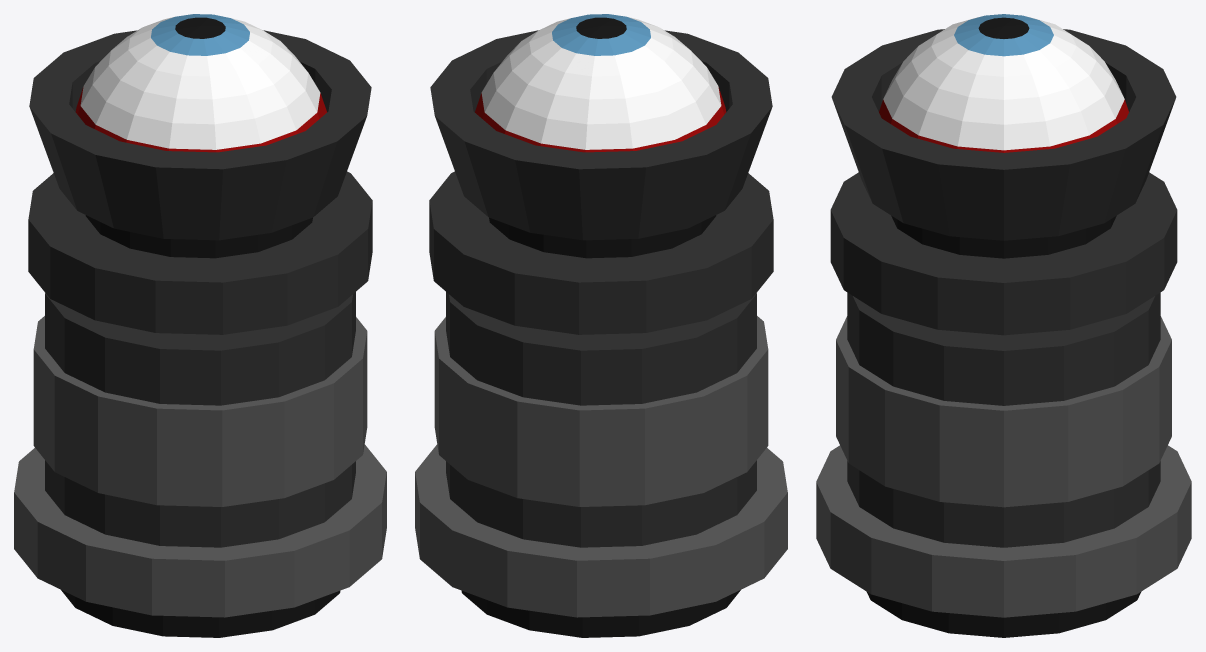
File: item_smart_lens.glb
3 views of the same model, side by side, from view 1: azimuth 30°, elevation 25°; view 2: azimuth 150°, elevation 25°; view 3: azimuth 270°, elevation 25° (orthographic).
Visible parts, largest first — view 1: Cylinder.005; view 2: Cylinder.005; view 3: Cylinder.005.
Boxes of the visible parts, x1,y1,x2,y2 form: Cylinder.005: [14, 14, 386, 637]; Cylinder.005: [415, 14, 787, 637]; Cylinder.005: [816, 14, 1191, 637].
Size of the model in its own units: 0.2948 by 0.4771 by 0.2948.
